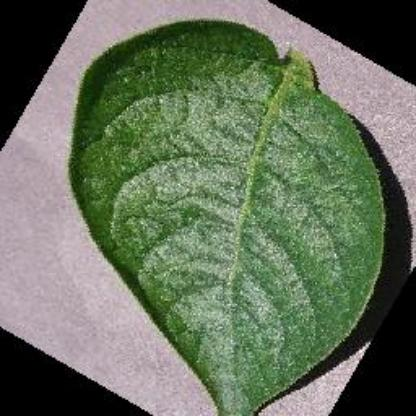Healthy-plant: (56, 10, 400, 414)
